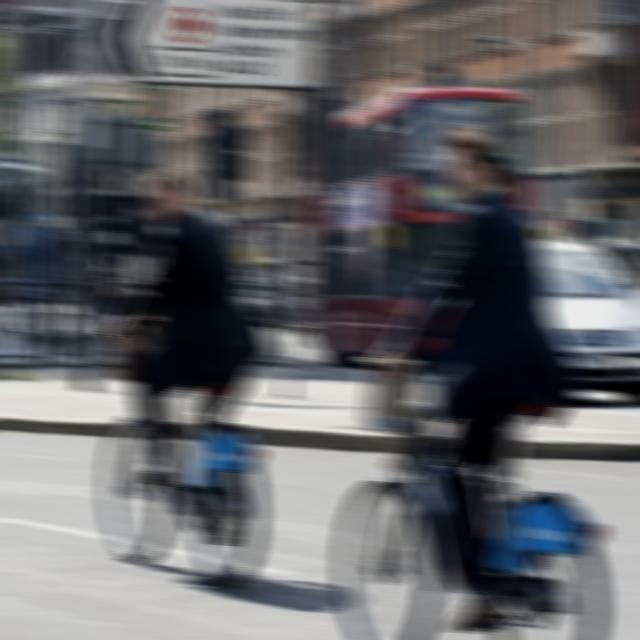Without Helmet: (431, 118, 514, 204), (139, 167, 196, 225)
